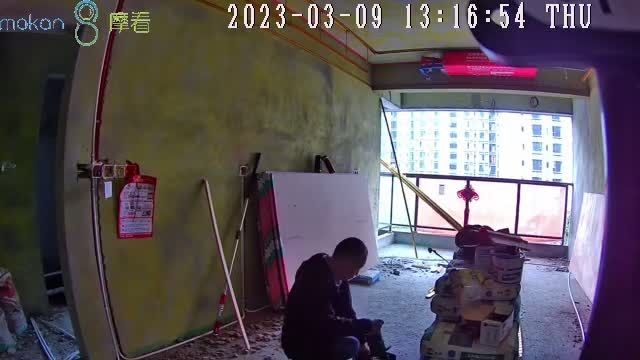people: (281, 238, 397, 360)
window: (386, 108, 569, 243)
